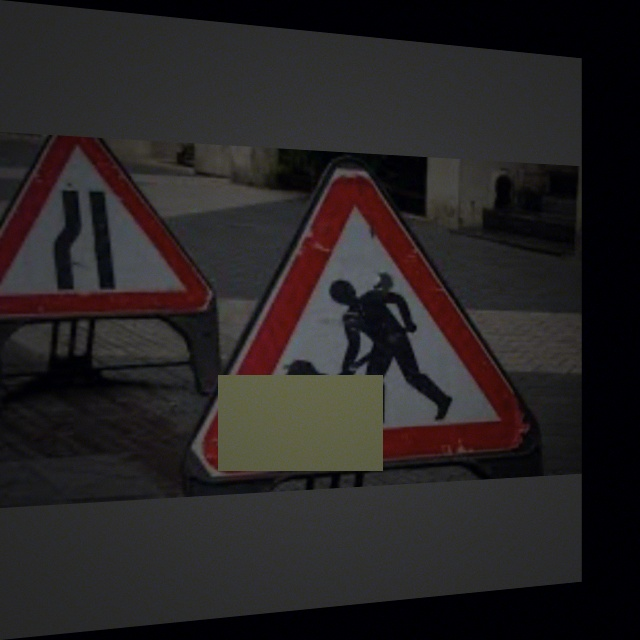Men_at_Work: (194, 185, 523, 487)
